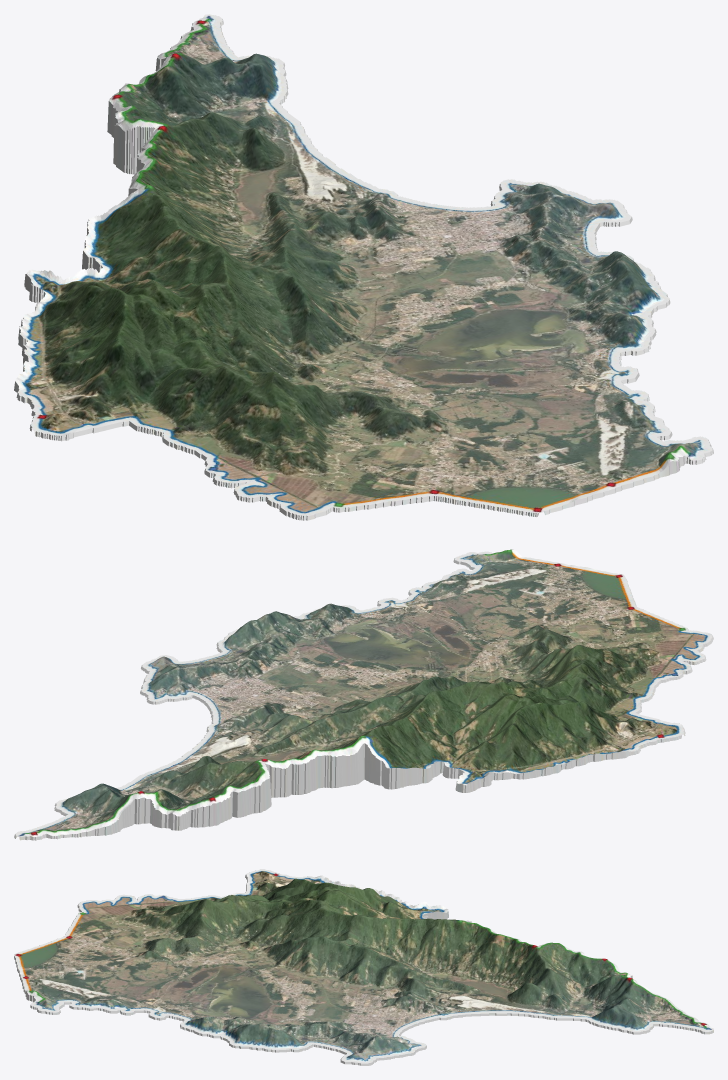
3 renders of one model, top to bottom at view 1: azimuth 30°, elevation 25°; view 2: azimuth 150°, elevation 25°; view 3: azimuth 270°, elevation 25°, orthographic. The views are drawn at different scales.
Bounding box in the file's own units: 0.9994 × 0.0829 × 1.52.
Materials: 1 (1 with a texture image).
